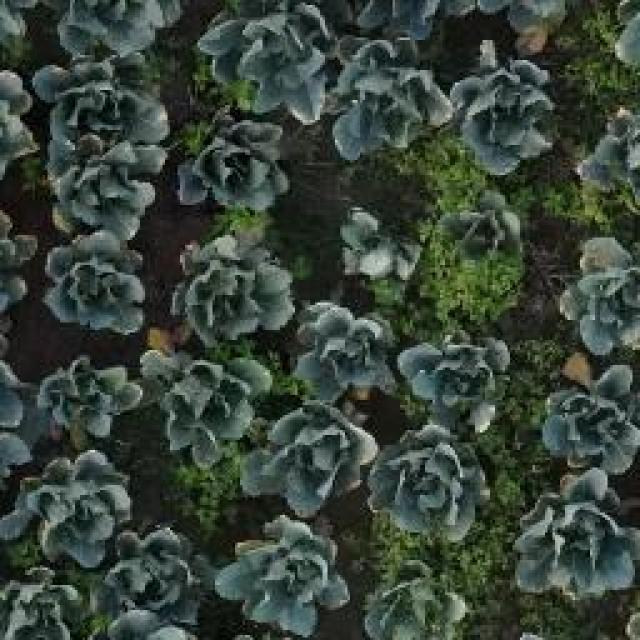cabbage: (195, 3, 333, 123), (215, 516, 352, 636), (515, 468, 640, 598), (6, 451, 131, 568), (248, 401, 371, 513), (372, 431, 490, 545), (322, 37, 432, 155), (149, 352, 263, 464), (168, 247, 295, 346), (449, 58, 553, 174), (536, 358, 638, 471), (394, 332, 511, 430), (104, 527, 203, 640), (174, 127, 295, 216), (290, 300, 396, 399), (50, 85, 170, 169), (49, 238, 145, 338), (561, 235, 640, 352), (363, 558, 470, 640), (49, 0, 182, 62), (32, 362, 143, 436), (46, 163, 162, 232), (435, 189, 528, 273), (333, 208, 425, 282), (580, 109, 640, 197)
